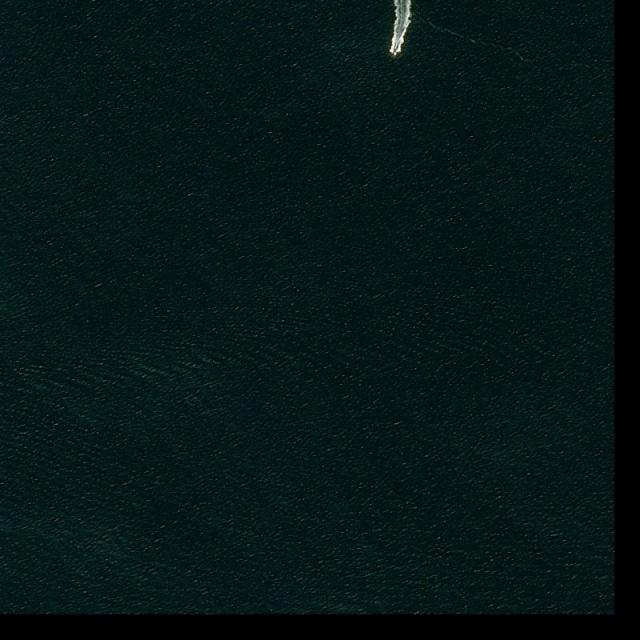ship: (392, 49, 398, 57)
